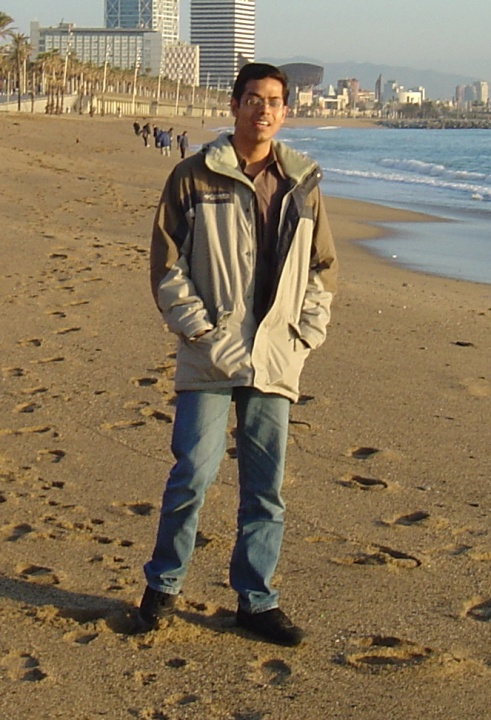person: (142, 66, 340, 646)
